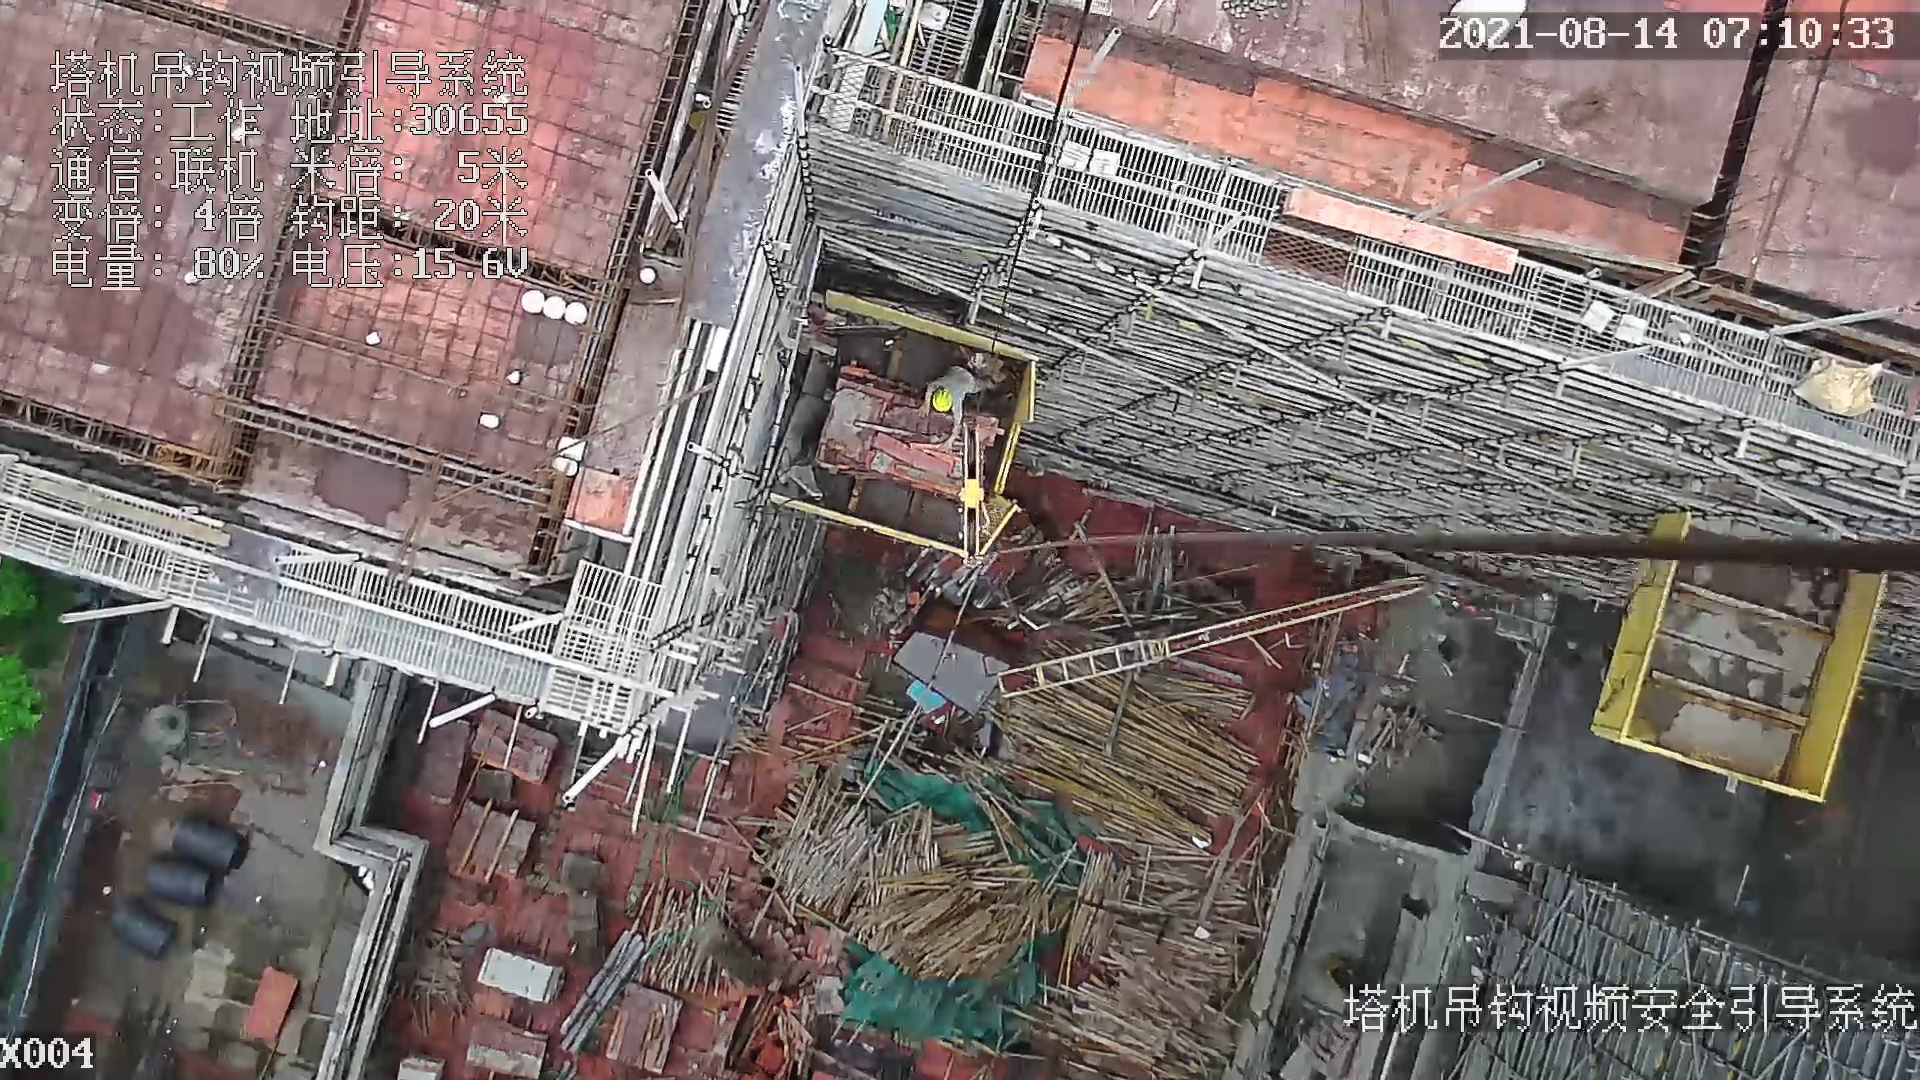helmet: (934, 387, 952, 414)
hook: (956, 426, 1000, 567)
person: (922, 364, 982, 456)
